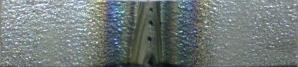soldas: (106, 0, 204, 66)
